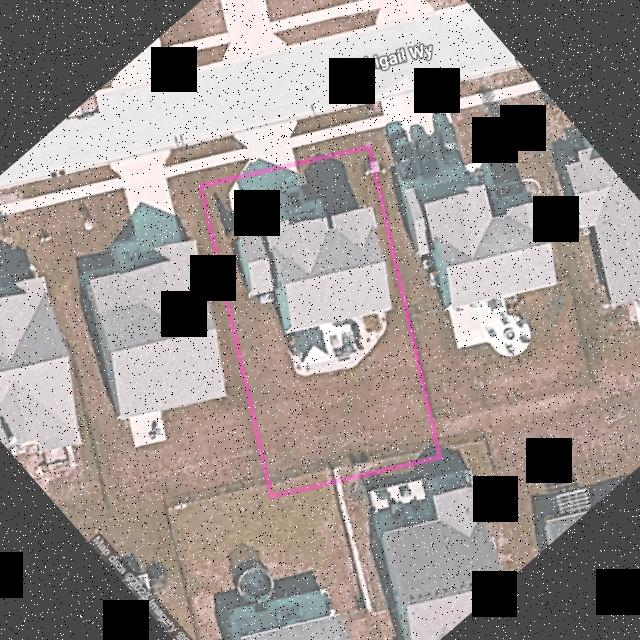Driveway: (226, 168, 325, 231)
Extra Driveway: (234, 119, 295, 173)
Extra Lawn: (289, 103, 363, 138), (291, 129, 369, 160), (188, 133, 248, 160), (194, 157, 250, 182)
Extra Sidewalk: (290, 118, 365, 147), (192, 147, 252, 170)
House: (235, 207, 391, 333)
Other: (290, 313, 385, 375), (258, 291, 274, 304)
